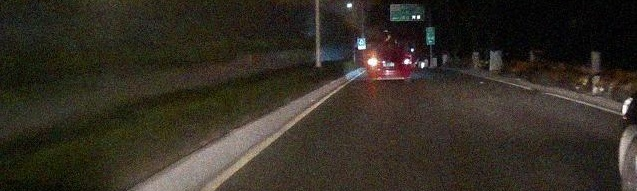L_light: (368, 59, 378, 65)
R_light: (402, 58, 412, 64)
T_light: (388, 50, 395, 52)
night-left: (366, 47, 412, 85)
